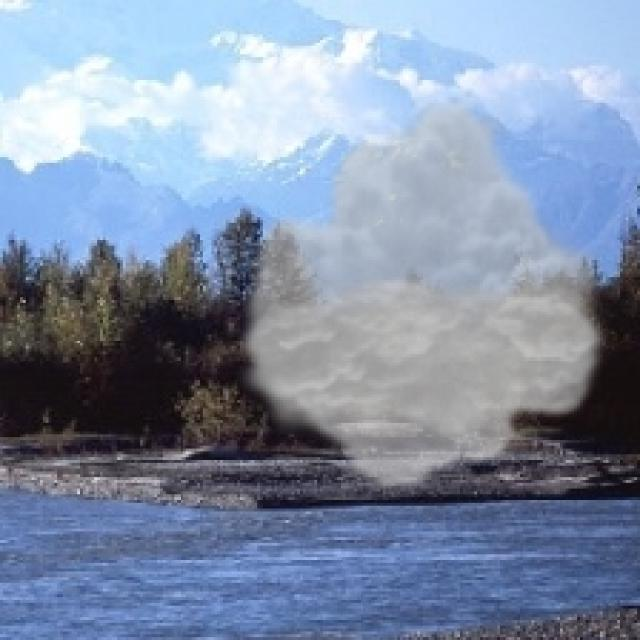Smoke: (232, 92, 614, 494)
